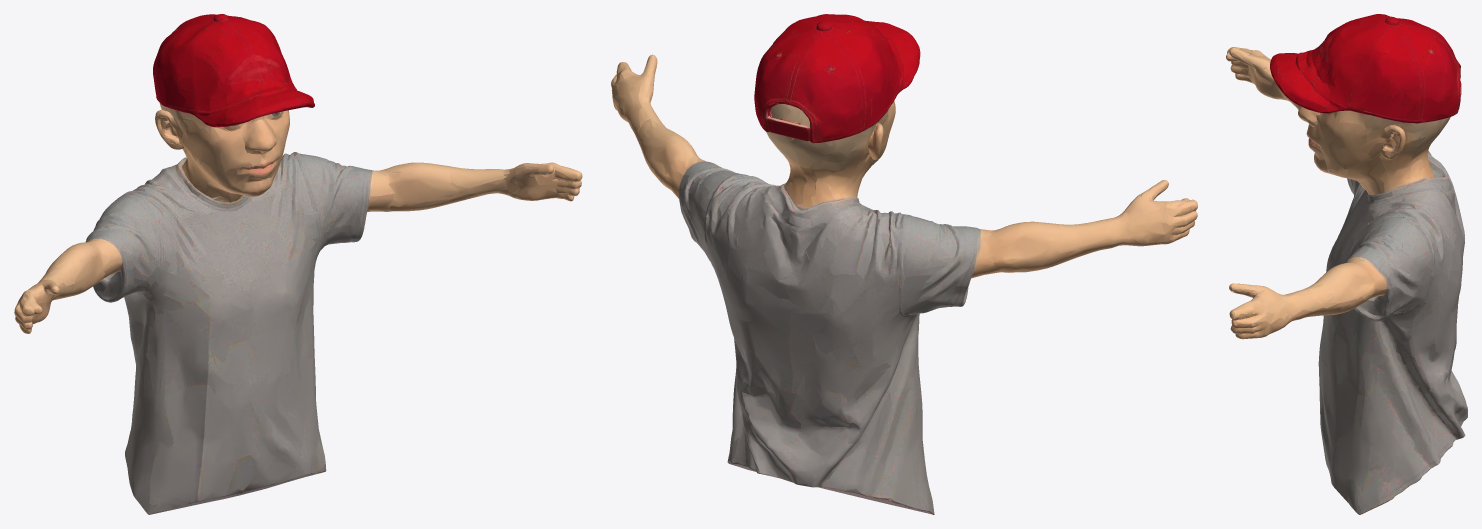
The model's file is cap_red_prop.glb.
3 renders of one model, left to right at view 1: azimuth 30°, elevation 25°; view 2: azimuth 150°, elevation 25°; view 3: azimuth 270°, elevation 25°, orthographic. The views are drawn at different scales.
Visible parts, largest first — view 1: mesh_node; view 2: mesh_node; view 3: mesh_node.
Part boxes in pixels (bbox=[...]): mesh_node: bbox=[14, 14, 582, 514]; mesh_node: bbox=[611, 14, 1197, 514]; mesh_node: bbox=[1226, 14, 1467, 514].
Bounding box in the file's own units: 1.9 × 1.51 × 0.7288.
Materials: 1 (1 with a texture image).
